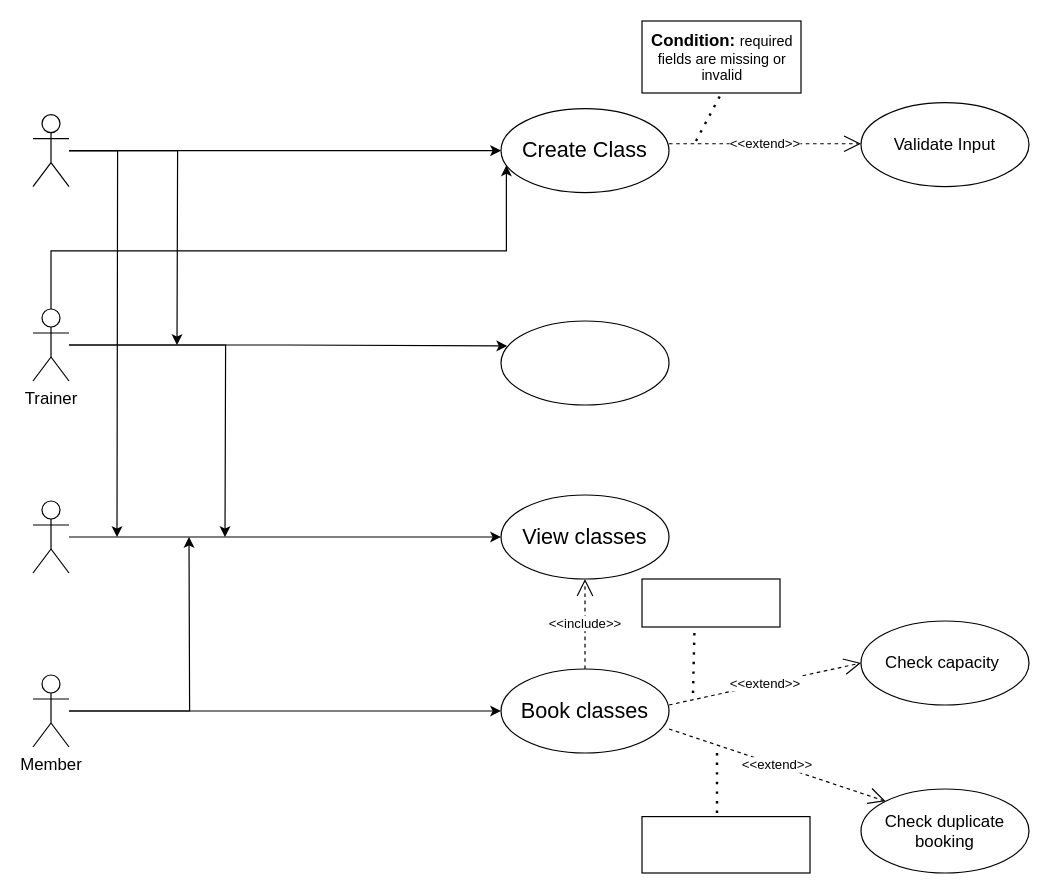
Some shapes in this 1050 by 894 pixel diagram are drawn without their labels. The box of each missing label's shape, as (x1, y1, x2, y2) in pixels:
Admin: (32, 113, 69, 187)
Condition: Class is full: (641, 578, 780, 627)
Condition: Member already booked the class: (641, 815, 810, 873)
Guest: (32, 500, 69, 573)
View classlist: (500, 320, 669, 405)
